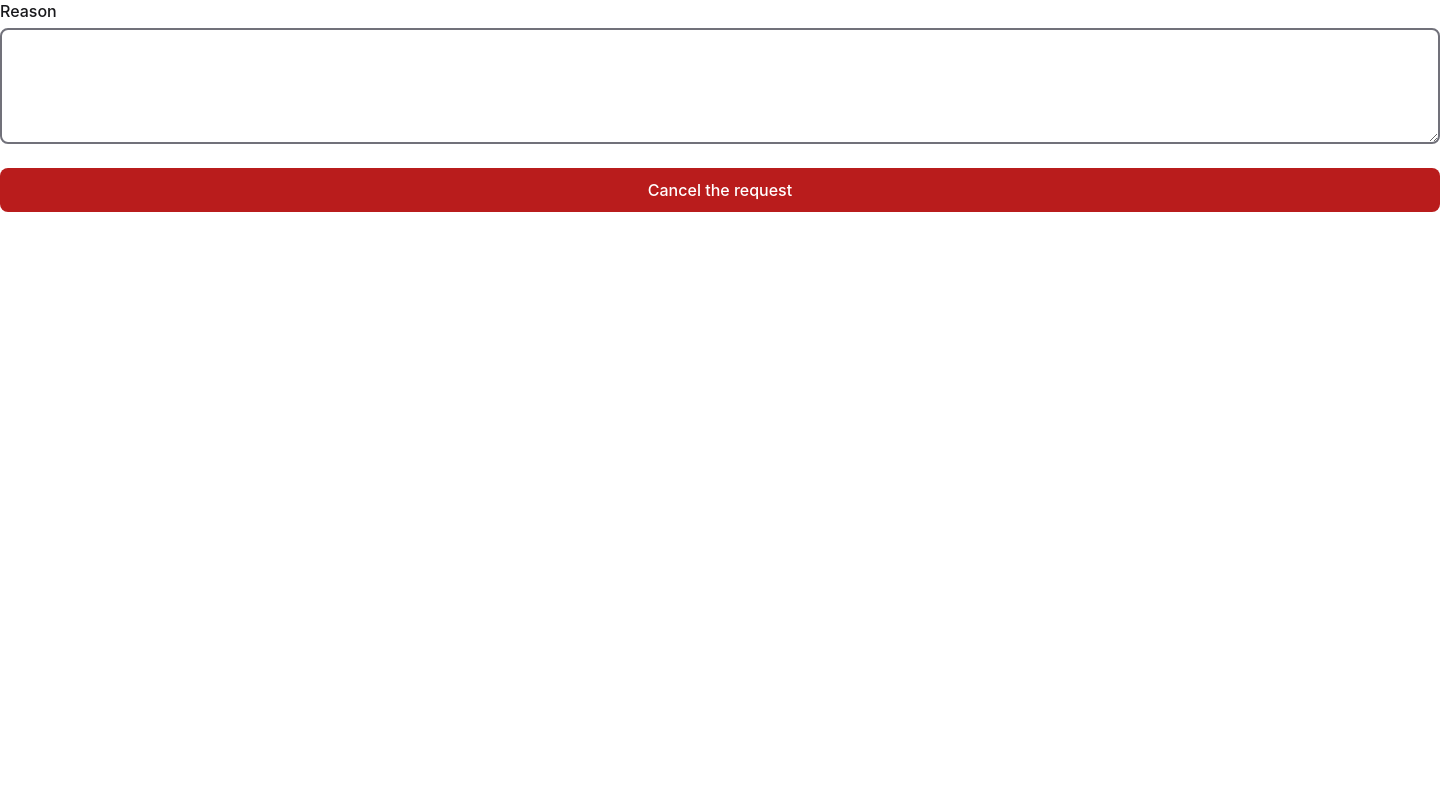
ConfirmDialog › submits the form, with the owner's input, only once confirmed
The width and height of the screenshot is (1440, 810).
Step 1. Type "Asked by mistake." into the text box labelled "Reason" → (720, 86), box [0,28,1439,144]
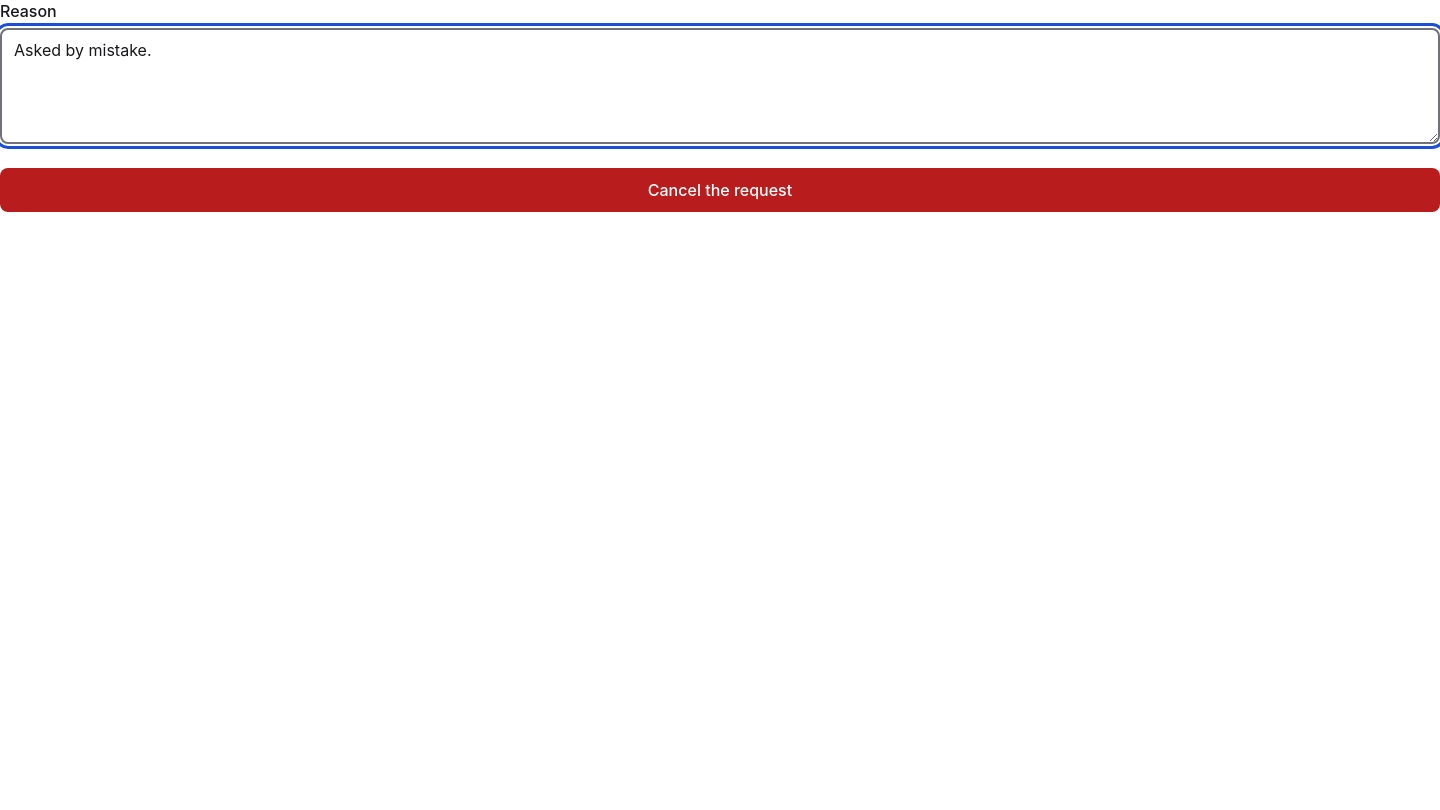
Step 2. Click the button "Cancel the request" → (720, 190), box [0,168,1439,212]
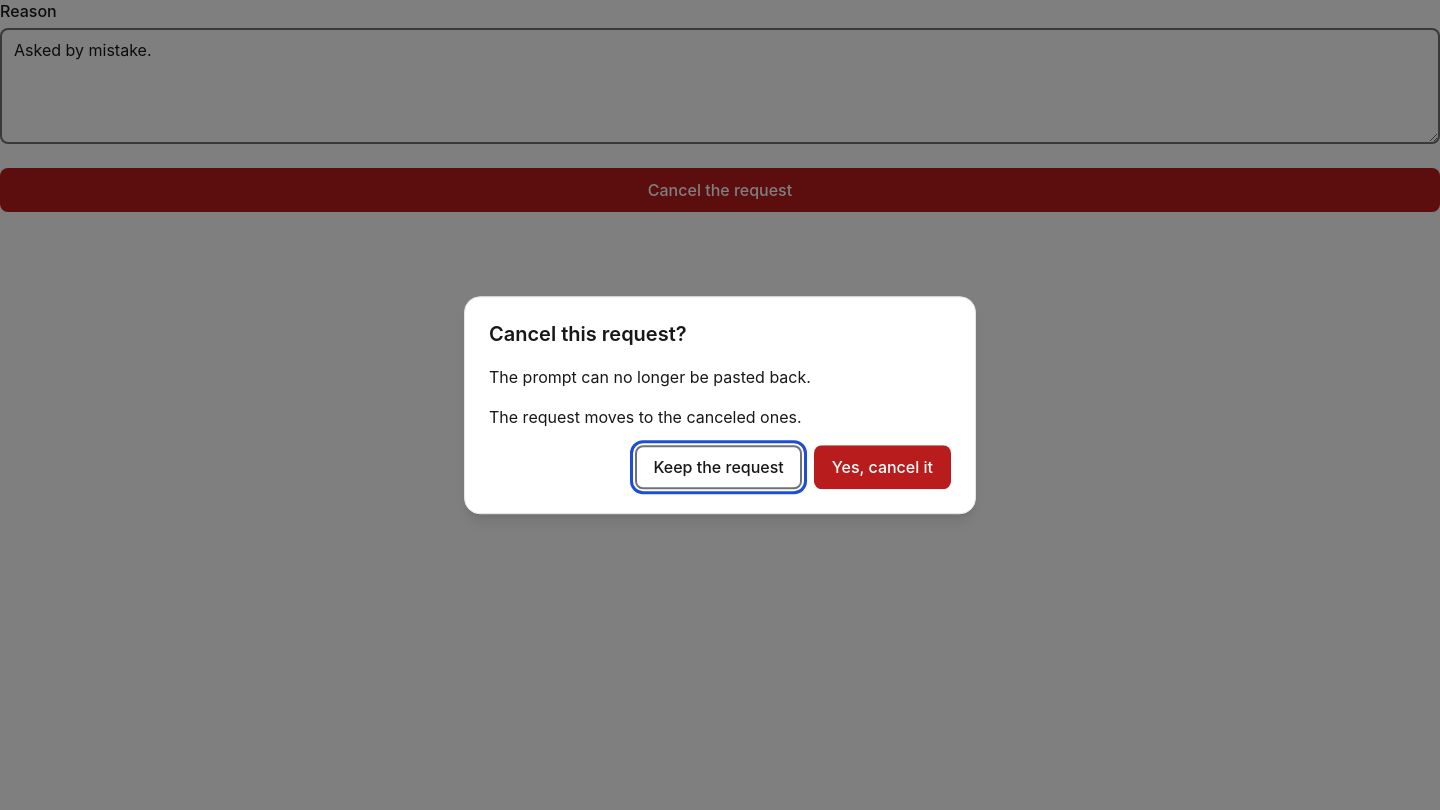
Step 3. Click the button "Yes, cancel it" → (882, 467), box [814,445,951,489]
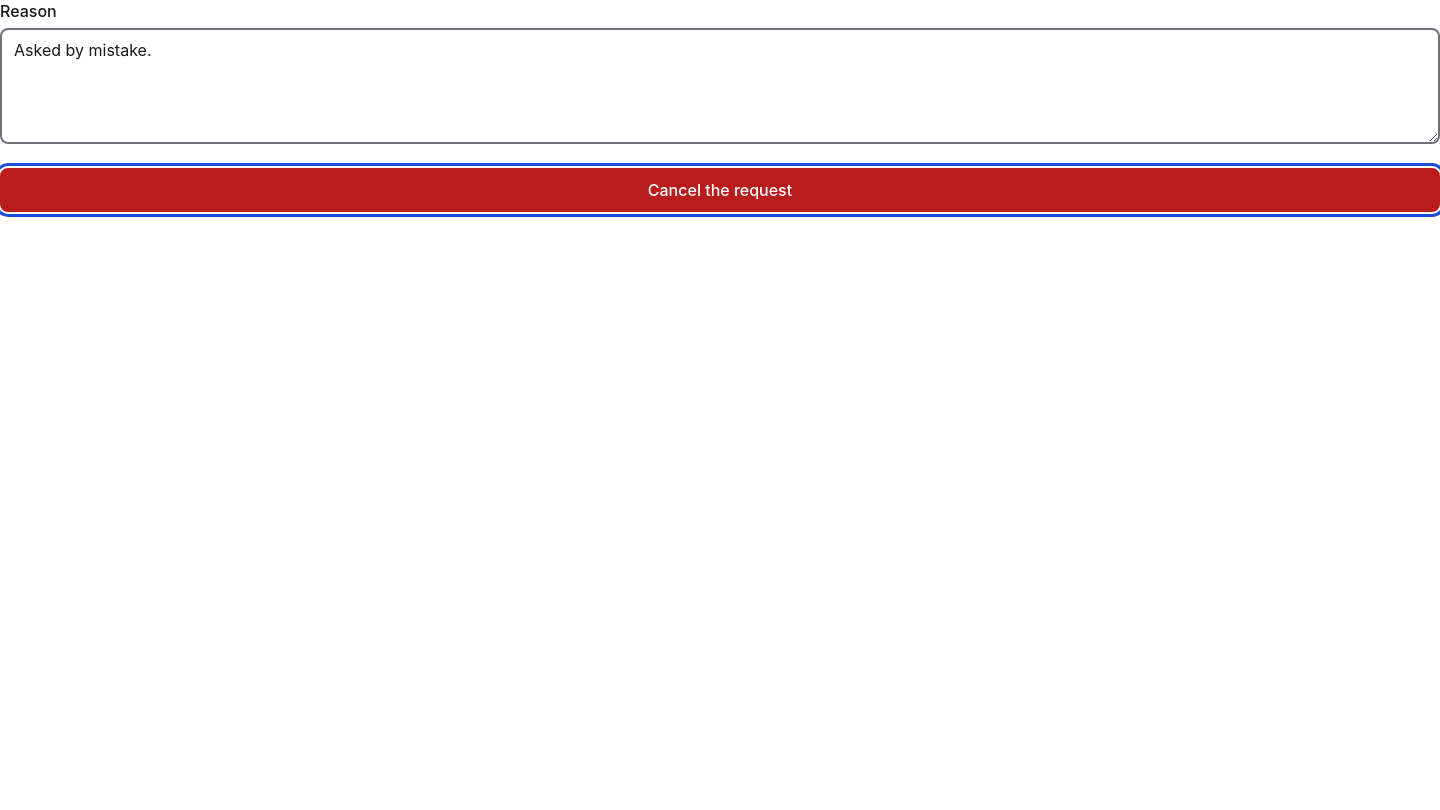
Now the dialog is gone
